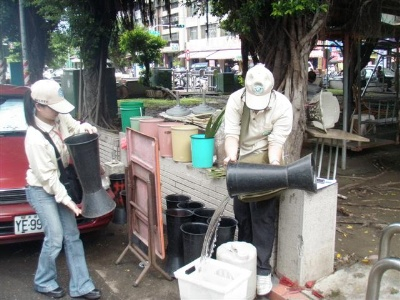bottle: (63, 133, 118, 218), (226, 154, 316, 198)
box: (174, 257, 252, 300)
bucket: (216, 242, 257, 300), (170, 125, 195, 166), (189, 134, 215, 169), (139, 118, 164, 150), (120, 101, 143, 132)
